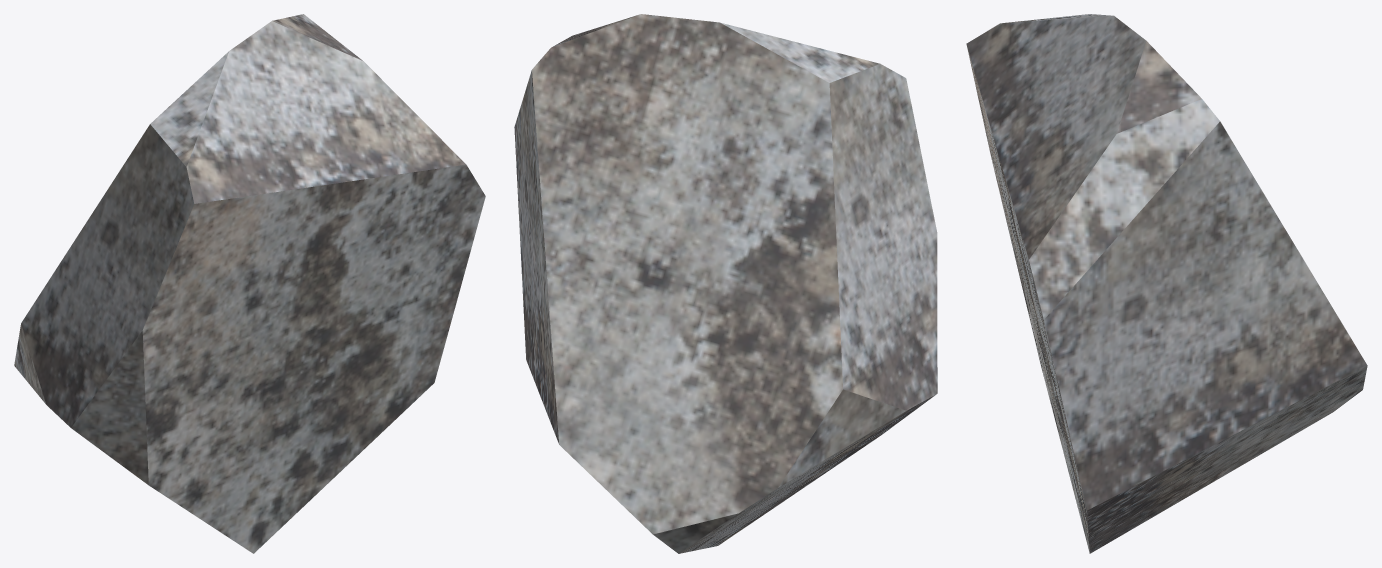
The model's file is Asteroid_Large_001_02_003_03_015.fbx.
The picture shows the model from 3 angles, left to right: view 1: azimuth 30°, elevation 25°; view 2: azimuth 150°, elevation 25°; view 3: azimuth 270°, elevation 25°; orthographic projection. The views are drawn at different scales.
Visible parts, largest first — view 1: Asteroid_Large_001_02_003_03_015; view 2: Asteroid_Large_001_02_003_03_015; view 3: Asteroid_Large_001_02_003_03_015.
Boxes of the visible parts, x1,y1,x2,y2 form: Asteroid_Large_001_02_003_03_015: (14,14,485,553); Asteroid_Large_001_02_003_03_015: (514,14,937,553); Asteroid_Large_001_02_003_03_015: (966,14,1367,553).
Size of the model in its own units: 7.37 by 8.77 by 5.94.
